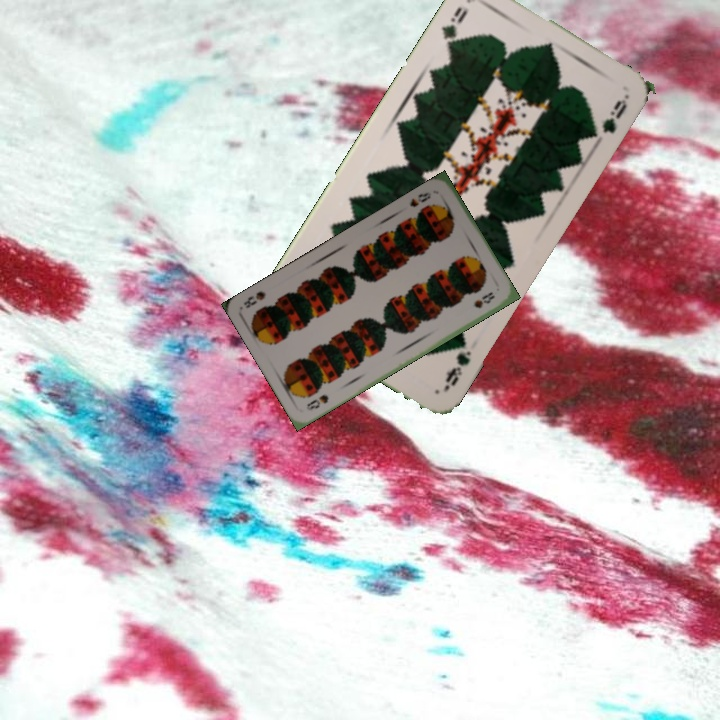G9: (437, 3, 471, 52), (441, 346, 474, 389)
S8: (302, 390, 331, 413), (406, 188, 434, 210)
